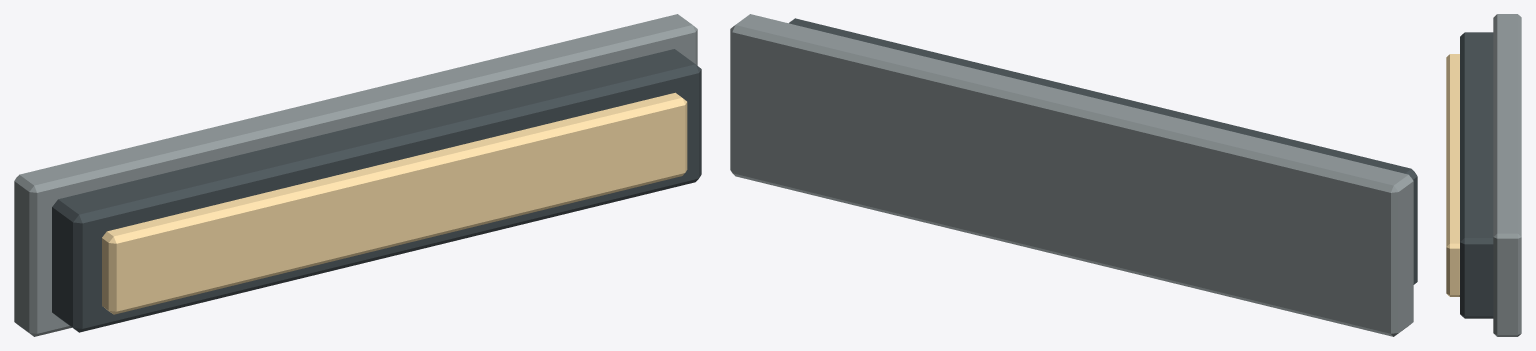
File: WallLight.fbx
3 renders of one model, left to right at view 1: azimuth 30°, elevation 25°; view 2: azimuth 150°, elevation 25°; view 3: azimuth 270°, elevation 25°, orthographic. The views are drawn at different scales.
Parts seen in each view (by area): view 1: MR_WallLight_Body; view 2: MR_WallLight_Body; view 3: MR_WallLight_Body.
Boxes of the visible parts, box(x1,y1,x2,y2) form: MR_WallLight_Body: box(14, 14, 701, 336); MR_WallLight_Body: box(730, 14, 1417, 336); MR_WallLight_Body: box(1446, 14, 1521, 336).
Bounding box in the file's own units: 0.67 × 0.145 × 0.096.
